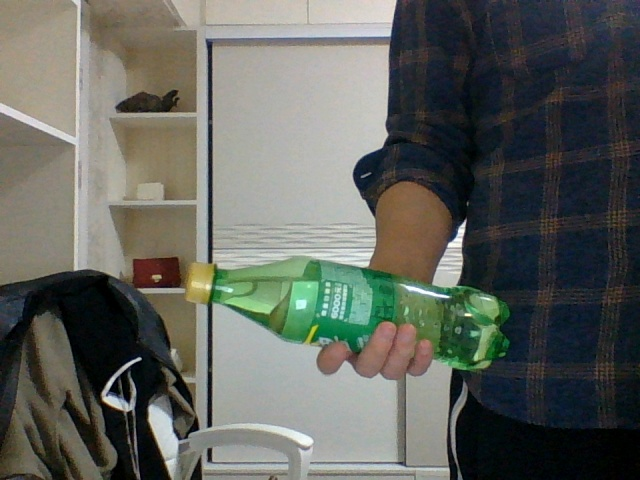Sprite: (185, 255, 510, 369)
